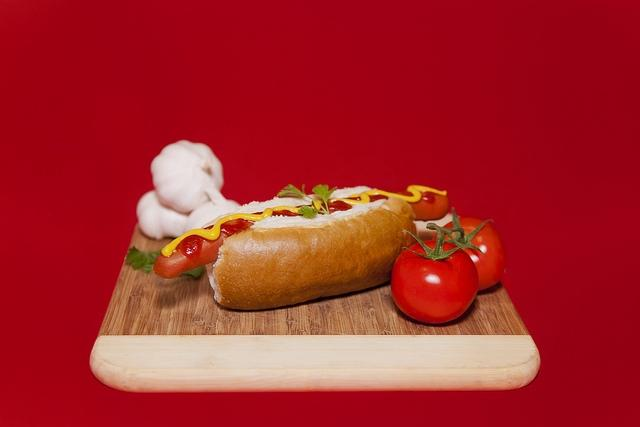garlic: (150, 139, 229, 214), (136, 190, 191, 240), (183, 200, 240, 233)
tomato: (390, 231, 480, 324), (438, 207, 508, 292)
